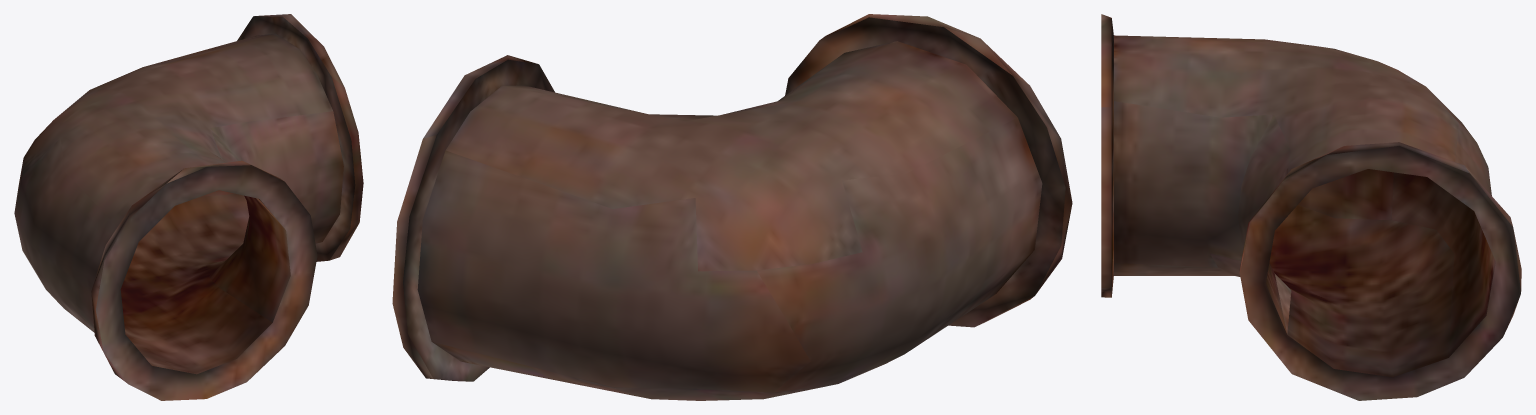
Rendered from rusty_pipe_01.glb.
3 views of the same model, side by side, from view 1: azimuth 30°, elevation 25°; view 2: azimuth 150°, elevation 25°; view 3: azimuth 270°, elevation 25° (orthographic). The views are drawn at different scales.
Visible parts, largest first — view 1: rusty_pipe_01; view 2: rusty_pipe_01; view 3: rusty_pipe_01.
Part boxes in pixels (left/top/right/bottom): rusty_pipe_01: left=14, top=14, right=363, bottom=400; rusty_pipe_01: left=392, top=14, right=1072, bottom=400; rusty_pipe_01: left=1101, top=14, right=1521, bottom=400.
Size of what is drawn, in the model's own units: 0.0428 by 0.0287 by 0.0428.
1 material, 1 textured.
